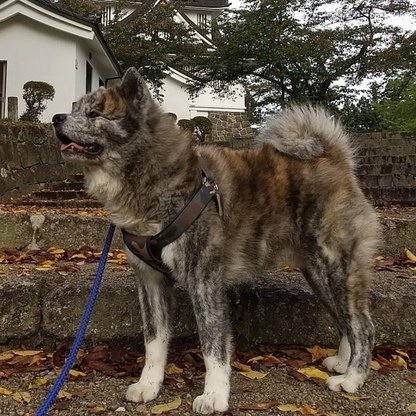akita: (42, 64, 389, 416)
